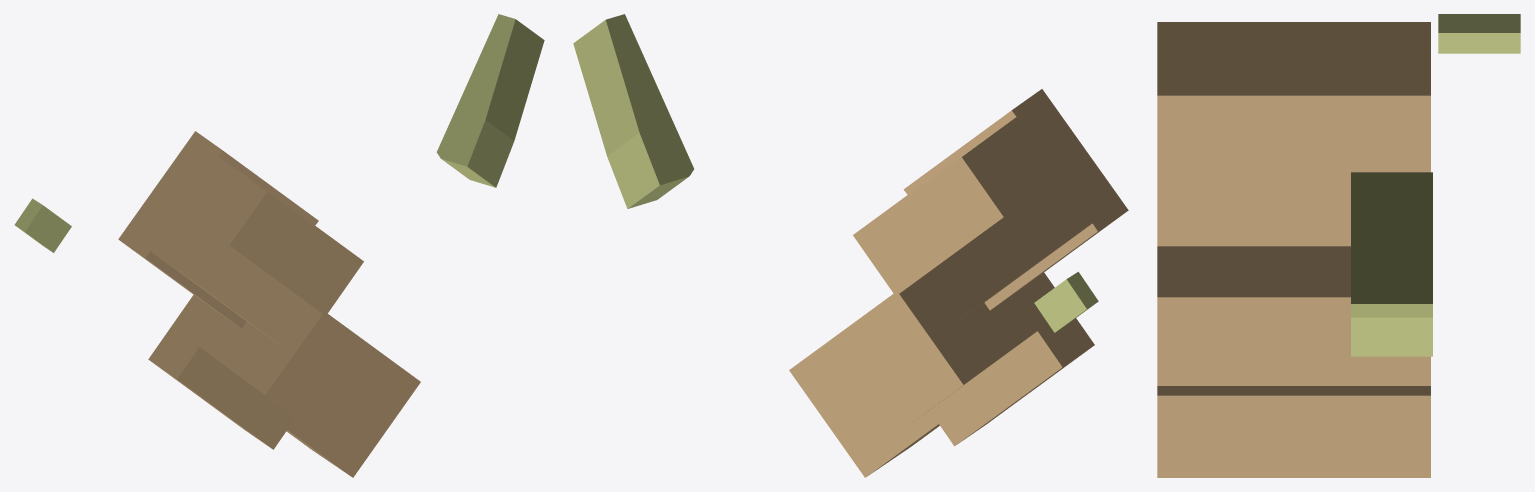
The picture shows the model from 3 angles, left to right: view 1: azimuth 30°, elevation 25°; view 2: azimuth 150°, elevation 25°; view 3: azimuth 270°, elevation 25°; orthographic projection. The views are drawn at different scales.
Visible parts, largest first — view 1: 0_0_1_3_1_1_2_2; view 2: 0_0_1_3_1_1_2_2; view 3: 0_0_1_3_1_1_2_2.
Boxes of the visible parts, bbox=[...] form: 0_0_1_3_1_1_2_2: bbox=[14, 14, 544, 477]; 0_0_1_3_1_1_2_2: bbox=[573, 14, 1128, 477]; 0_0_1_3_1_1_2_2: bbox=[1157, 14, 1520, 477].
Size of the model in its own units: 84.5 by 57.29 by 39.8.
